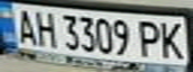0: (93, 15, 115, 55)
3: (57, 11, 81, 52), (75, 14, 96, 53)
9: (112, 16, 136, 56)
A: (9, 6, 39, 45)
H: (30, 8, 57, 47)
K: (157, 18, 190, 60)
P: (133, 17, 166, 59)
